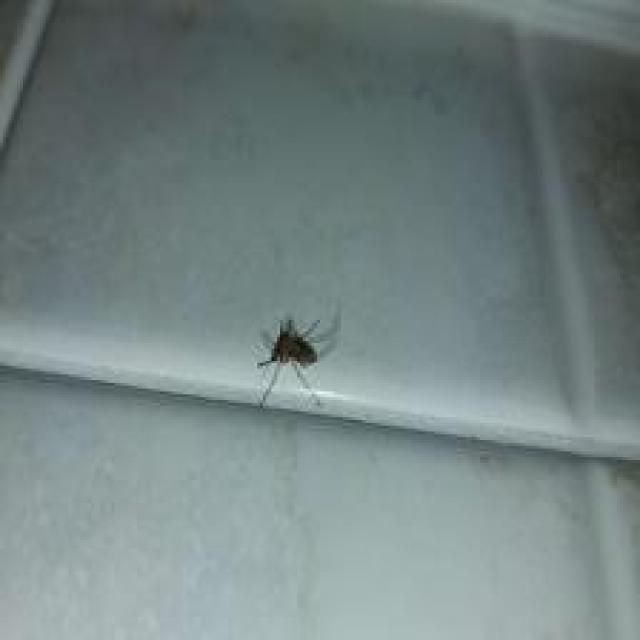Culex: (254, 310, 340, 410)
